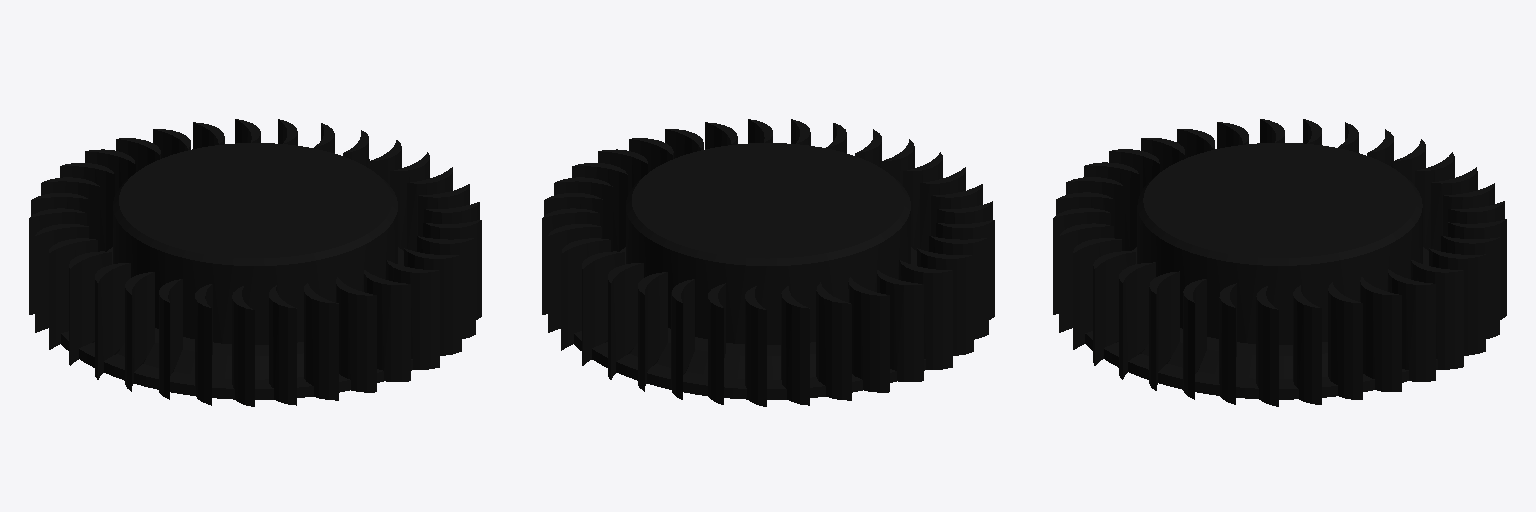
Rendered from Print-fan_rotor.obj.
3 views of the same model, side by side, from view 1: azimuth 30°, elevation 25°; view 2: azimuth 150°, elevation 25°; view 3: azimuth 270°, elevation 25° (orthographic).
Visible parts, largest first — view 1: mesh 1 Print-fan_rotor; view 2: mesh 1 Print-fan_rotor; view 3: mesh 1 Print-fan_rotor.
Part boxes in pixels (left/top/right/bottom): mesh 1 Print-fan_rotor: left=29, top=119, right=481, bottom=406; mesh 1 Print-fan_rotor: left=542, top=119, right=994, bottom=406; mesh 1 Print-fan_rotor: left=1053, top=119, right=1506, bottom=406.
Bounding box in the file's own units: 0.0389 × 0.0105 × 0.039.